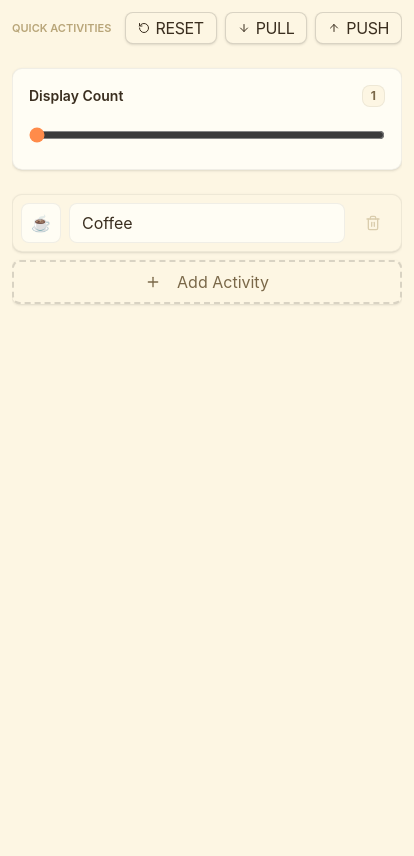
Test case: QuickActivitySettingsView › resets quick activities to defaults locally
Click the button "Reset": [171, 28] box [124, 12, 217, 44]
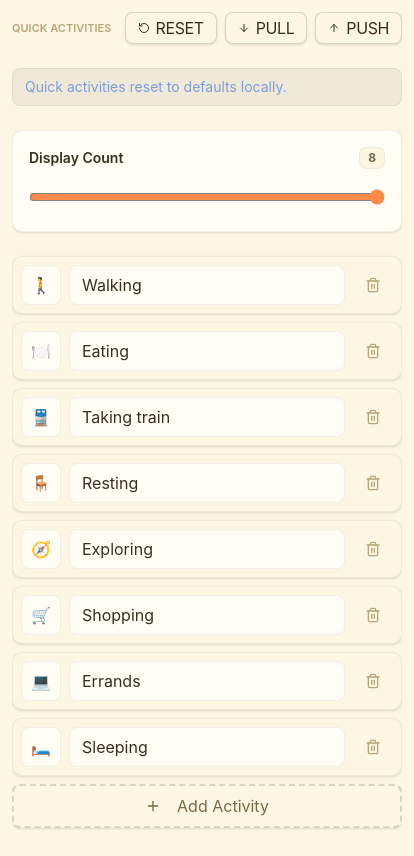
Expected: the message shows "reset to defaults", [25, 78, 287, 95]
